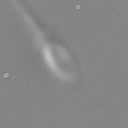normal: (8, 1, 52, 45)
